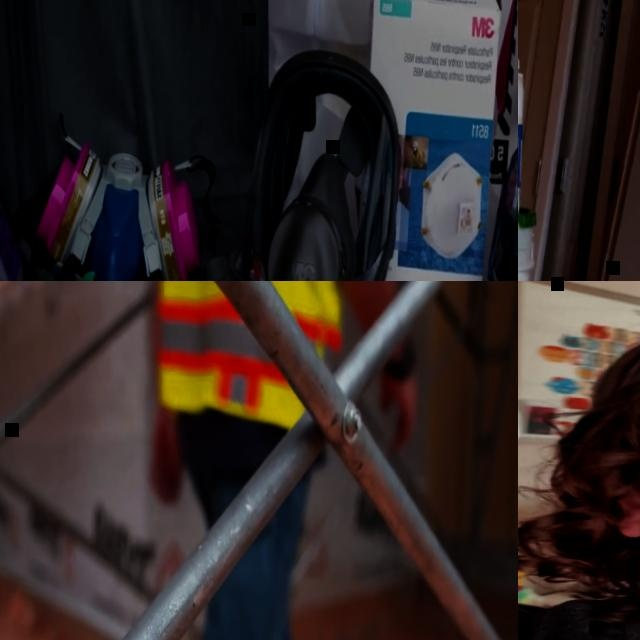Mask: (0, 112, 248, 281), (237, 49, 407, 281)
Person: (131, 281, 423, 640), (518, 301, 640, 640)
Safety Vest: (154, 281, 342, 425)
